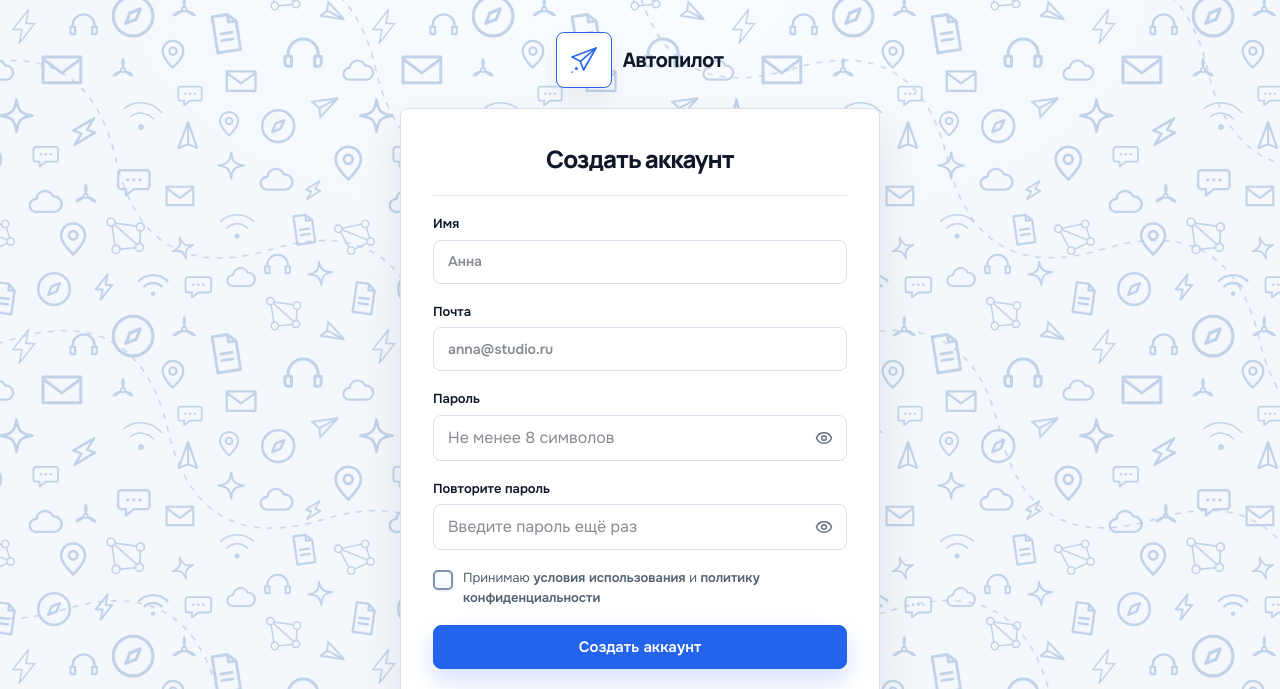
Scenario: RegisterPage › does not submit registration when passwords do not match
Type "Тимур" into the field labelled "Имя".
click(640, 262); type("Тимур")  # box x1=433 y1=240 x2=847 y2=284
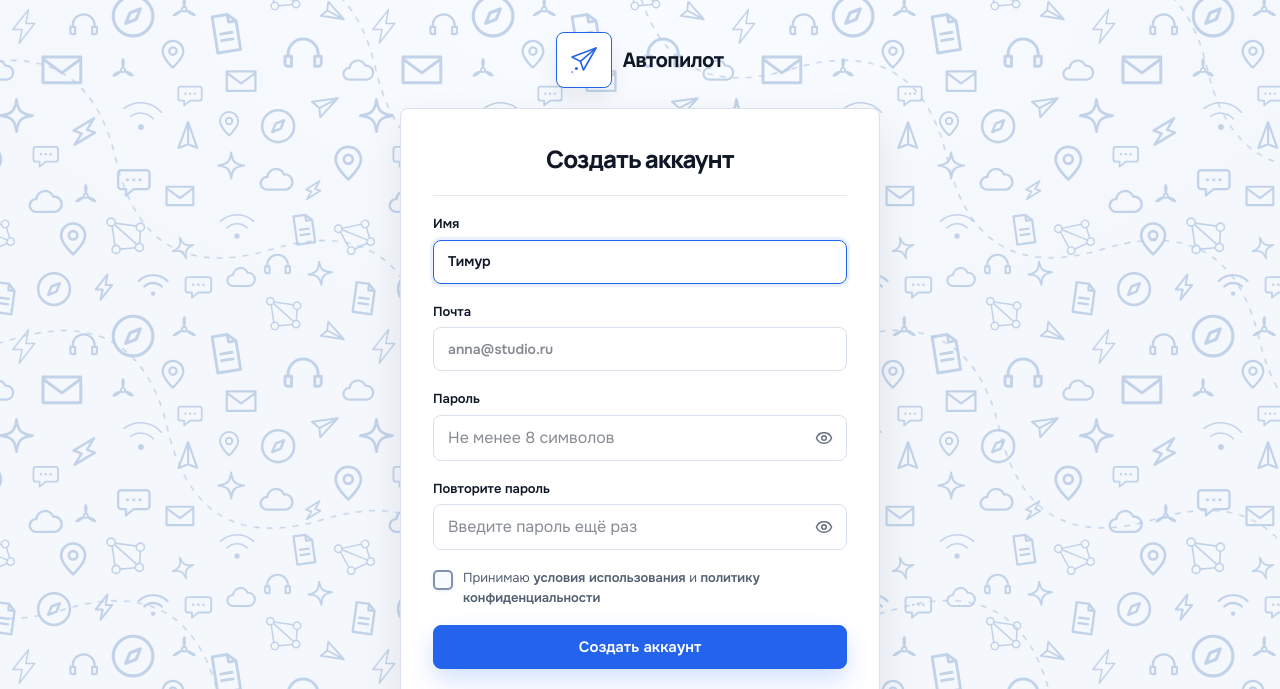
Type "timur@example.com" into the field labelled "Почта".
click(640, 349); type("timur@example.com")  # box x1=433 y1=327 x2=847 y2=371
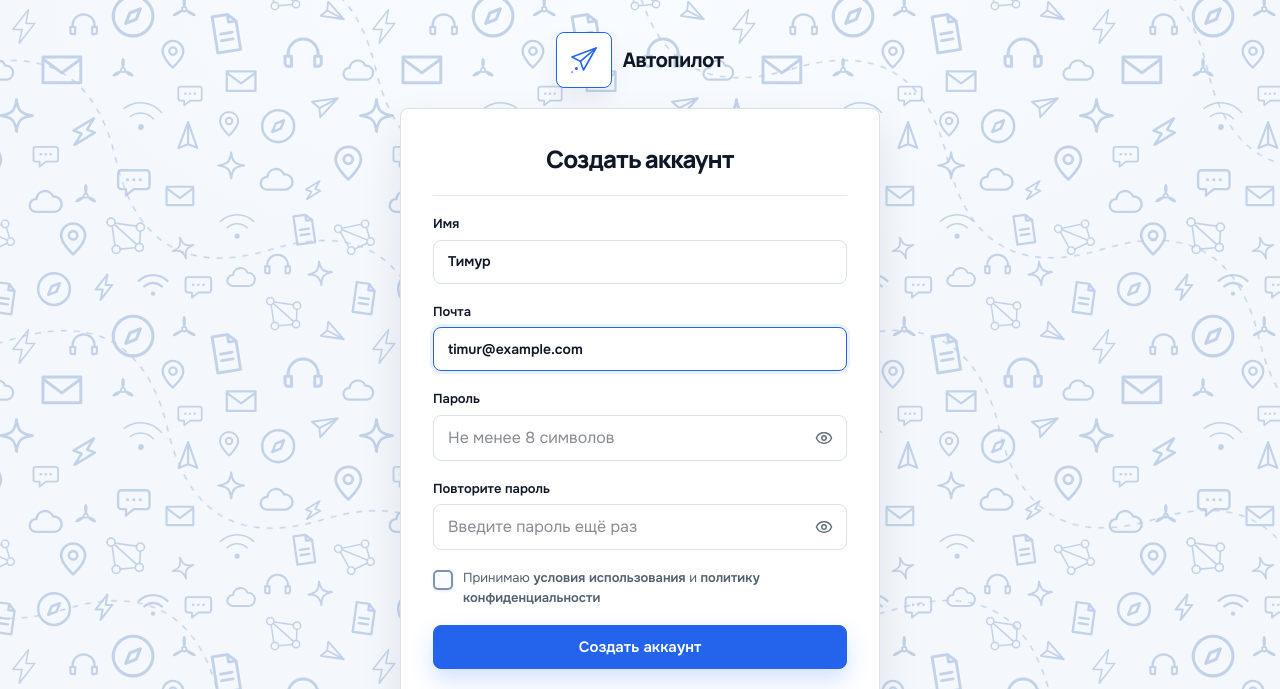
Type "strong-password" into the password field labelled "Пароль".
click(620, 438); type("strong-password")  # box x1=434 y1=416 x2=806 y2=460
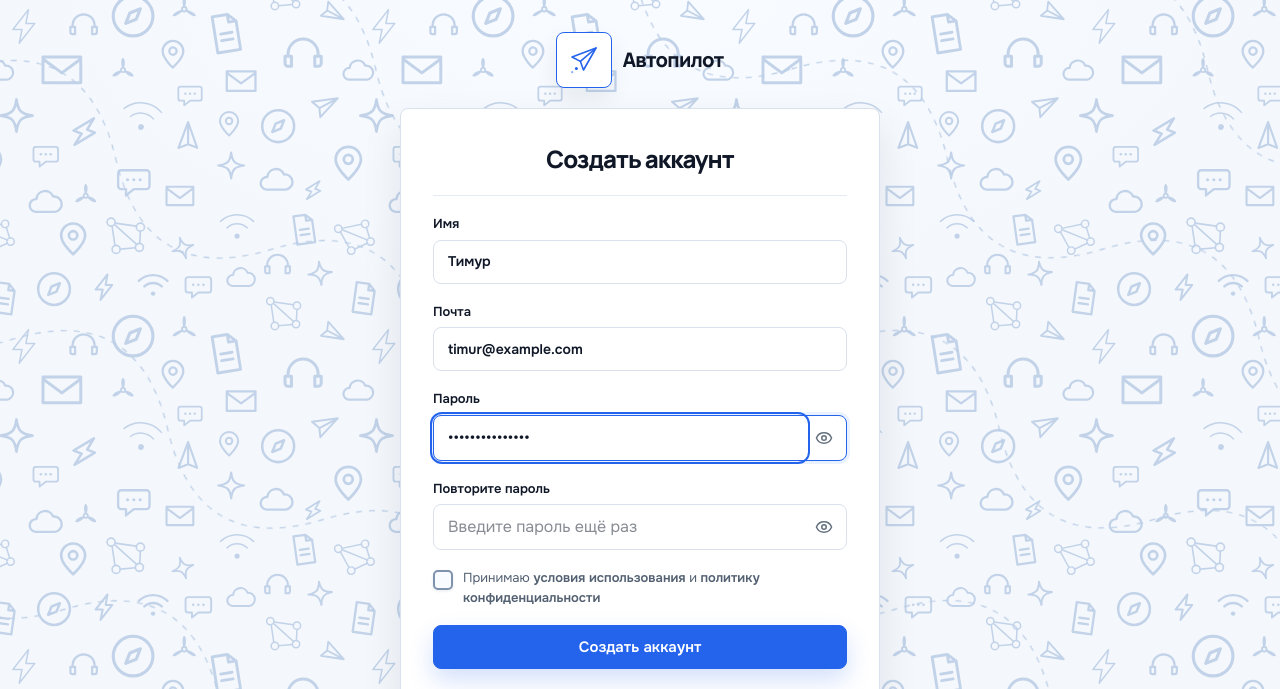
Type "another-password" into the password field labelled "Повторите пароль".
click(620, 527); type("another-password")  # box x1=434 y1=505 x2=806 y2=549
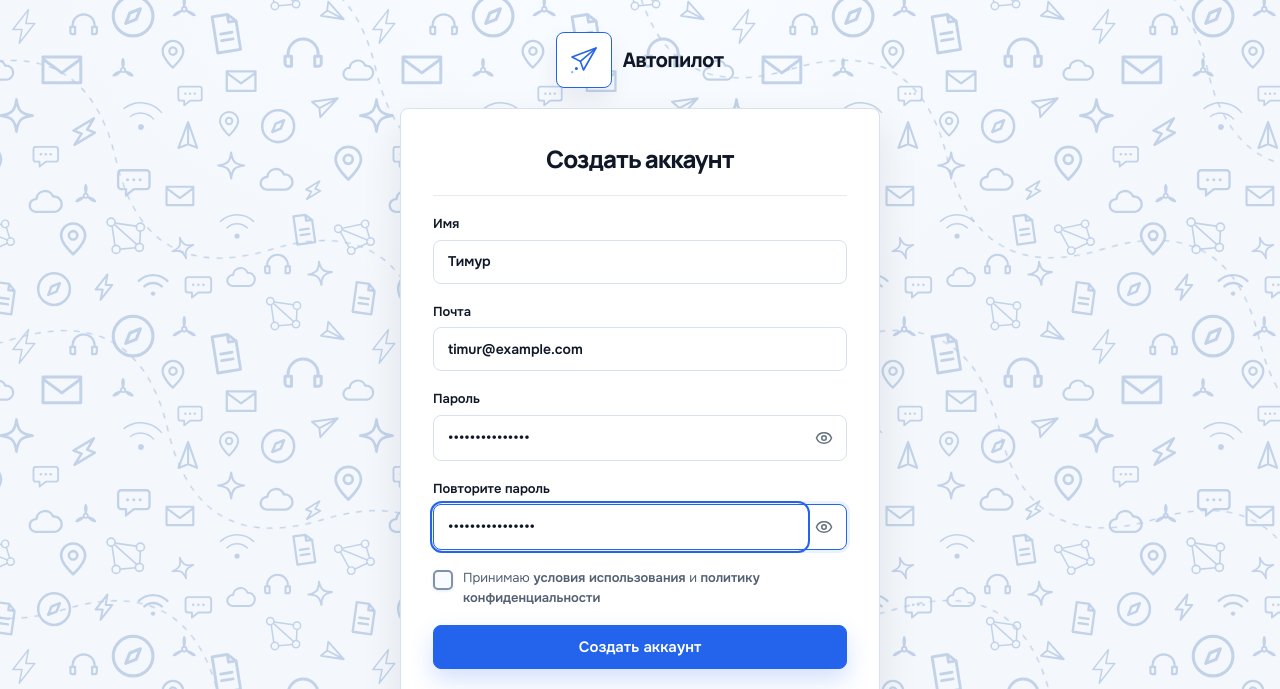
Click the checkbox.
click(443, 580)  # box x1=433 y1=570 x2=453 y2=590
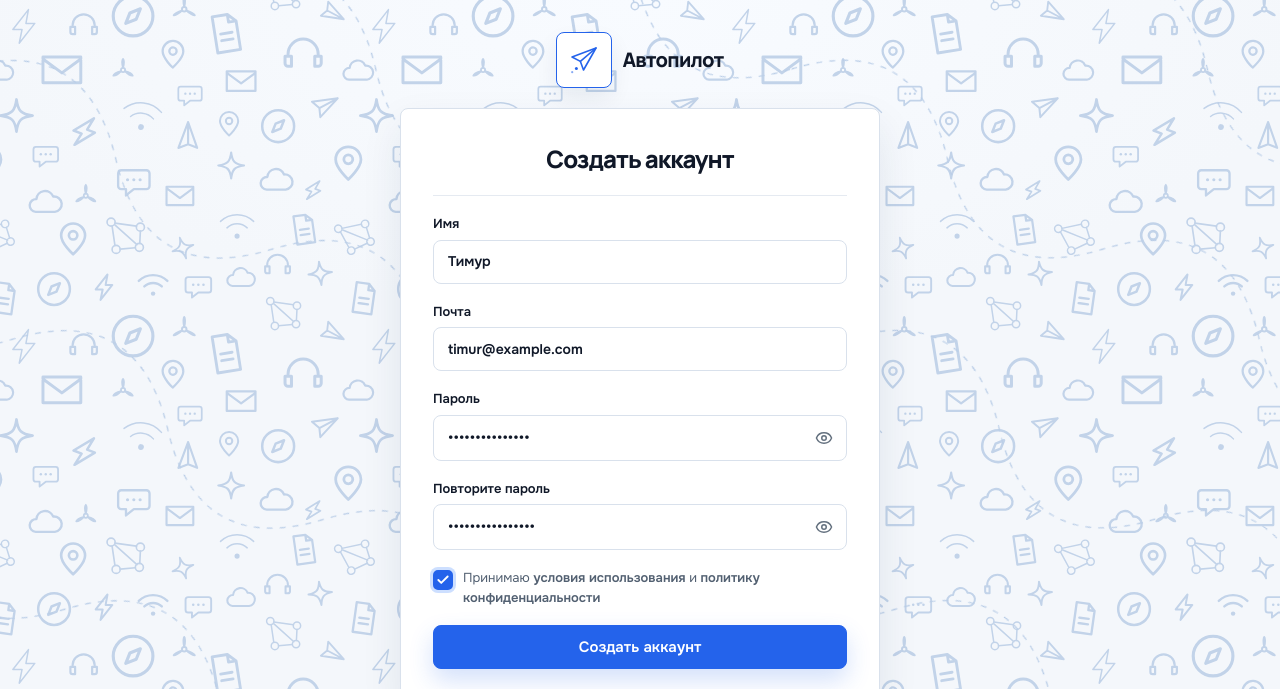
Click the button "Создать аккаунт".
click(640, 647)  # box x1=433 y1=625 x2=847 y2=669
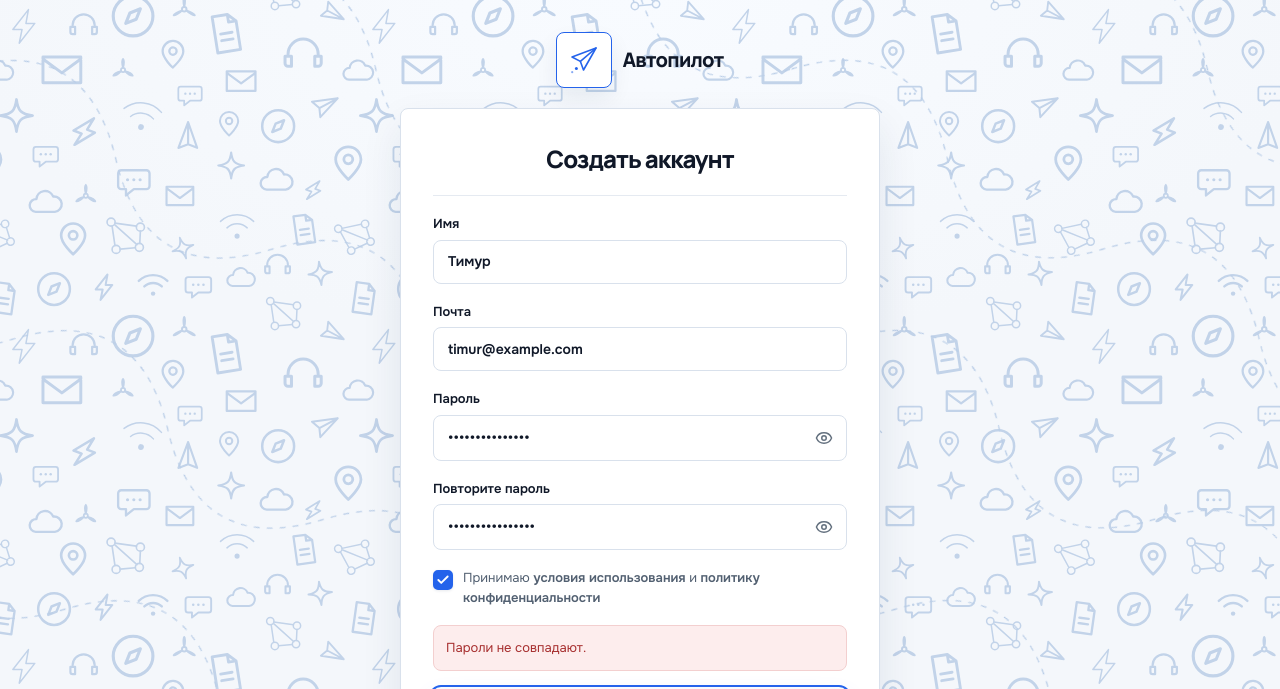
Check: the message reads "Пароли не совпадают.", box x1=446 y1=639 x2=586 y2=656
